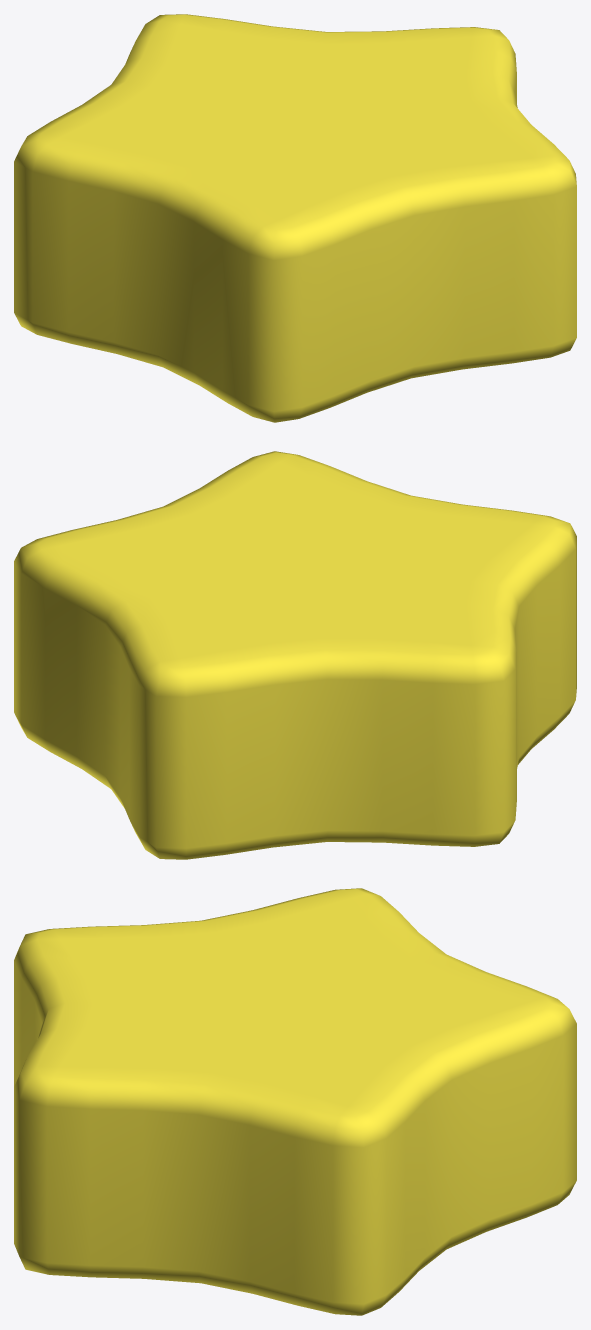
Rendered from Store_9_Pouf_Star_3.glb.
3 renders of one model, top to bottom at view 1: azimuth 30°, elevation 25°; view 2: azimuth 150°, elevation 25°; view 3: azimuth 270°, elevation 25°, orthographic. The views are drawn at different scales.
Visible parts, largest first — view 1: Store_9_Pouf_Star_3; view 2: Store_9_Pouf_Star_3; view 3: Store_9_Pouf_Star_3.
Boxes of the visible parts, x1,y1,x2,y2 form: Store_9_Pouf_Star_3: (14, 14, 576, 422); Store_9_Pouf_Star_3: (14, 451, 576, 859); Store_9_Pouf_Star_3: (14, 888, 576, 1315).
Bounding box in the file's own units: 0.7419 × 0.2765 × 0.7124.
Materials: 1 (1 with a texture image).
